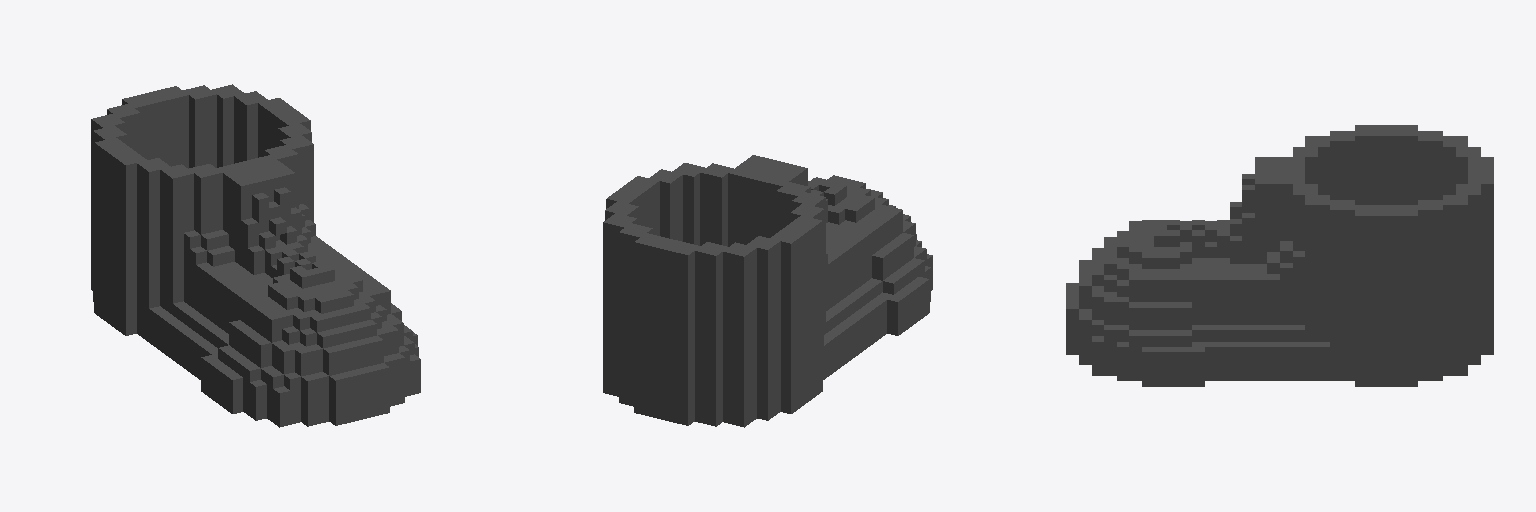
3 views of the same model, side by side, from view 1: azimuth 30°, elevation 25°; view 2: azimuth 150°, elevation 25°; view 3: azimuth 270°, elevation 25° (orthographic).
Size of the model in its own units: 17 by 15 by 34.
Materials: 1 (1 with a texture image).